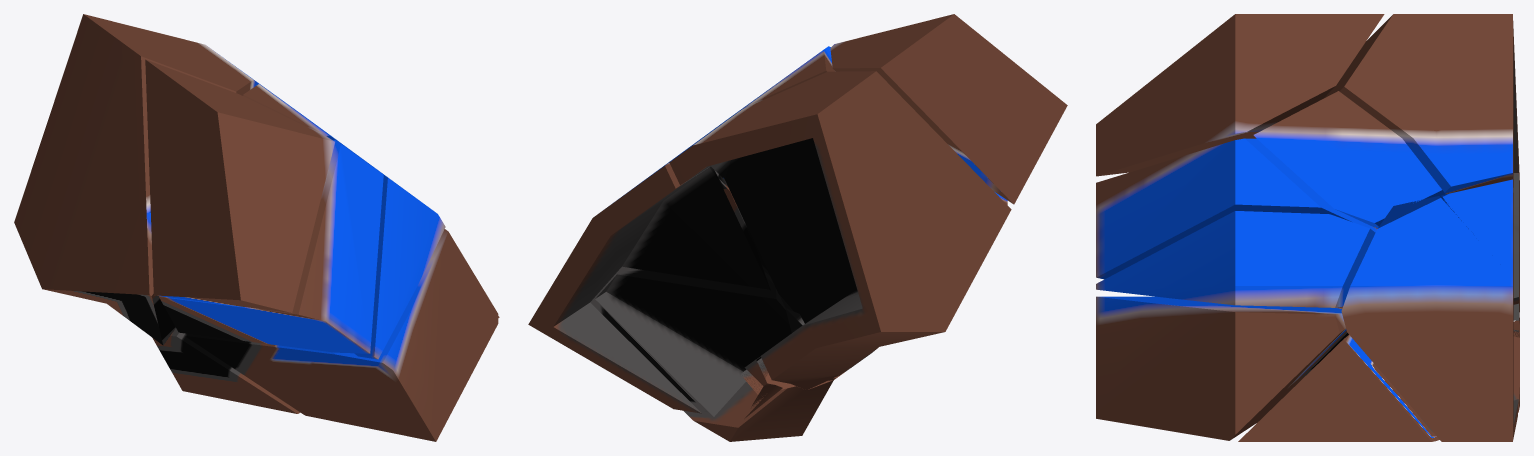
File: heavy_wreckage1.fbx
3 renders of one model, left to right at view 1: azimuth 30°, elevation 25°; view 2: azimuth 150°, elevation 25°; view 3: azimuth 270°, elevation 25°, orthographic. The views are drawn at different scales.
Parts seen in each view (by area): view 1: broke_engine_upLeft; view 2: broke_engine_upLeft; view 3: broke_engine_upLeft.
Boxes of the visible parts, <box> form: broke_engine_upLeft: <box>14,14,499,441</box>; broke_engine_upLeft: <box>528,14,1067,441</box>; broke_engine_upLeft: <box>1096,14,1519,441</box>.
Size of the model in its own units: 3.26 by 3.05 by 3.15.
1 material, 1 textured.
